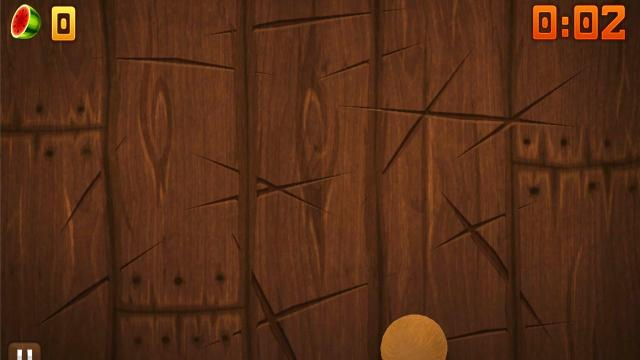fruit: (380, 314, 448, 360)
ignore: (9, 3, 43, 41)
